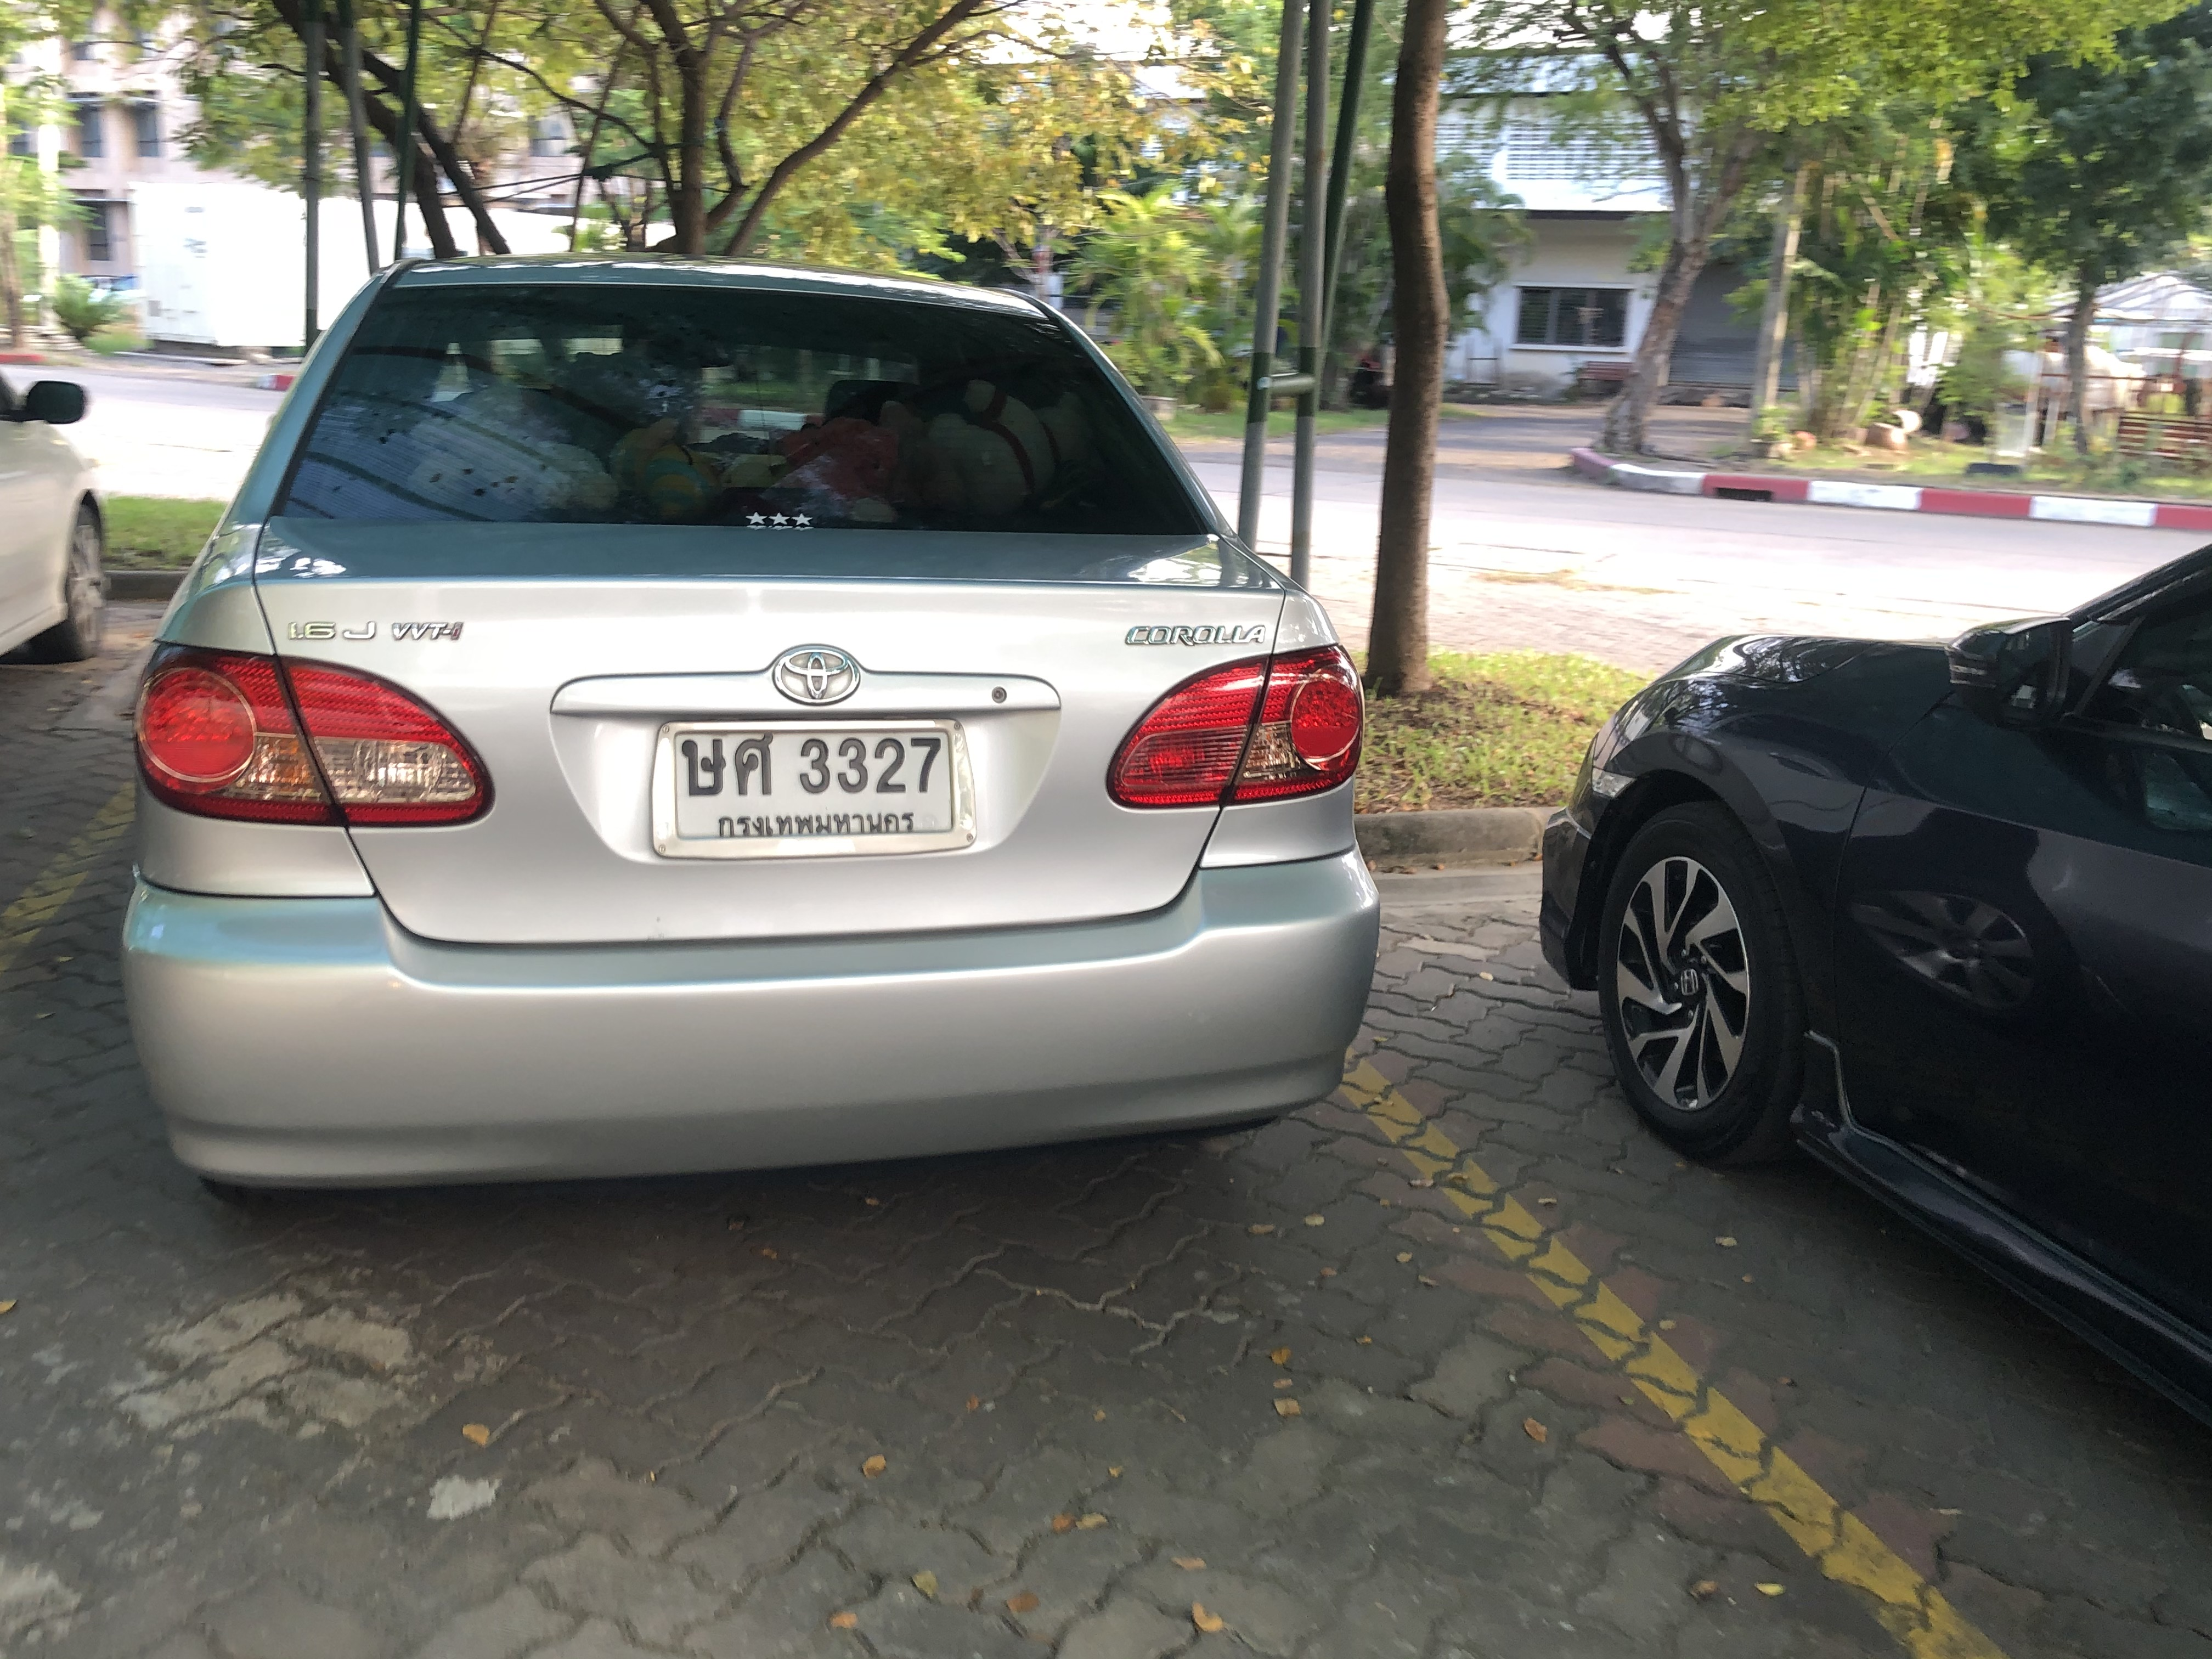in: (674, 732, 958, 838)
out: (653, 714, 977, 857)
